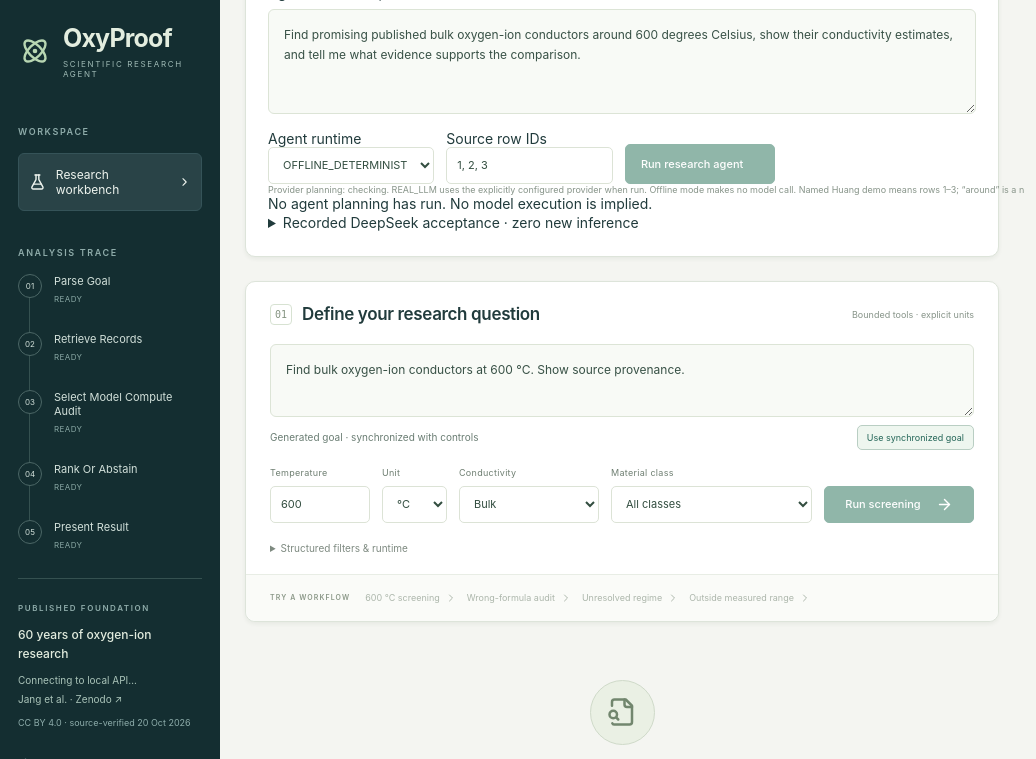
Test case: workbench API contract › preserves a manual scientific requirement when controls change
The image size is (1036, 759).
(page scrolled)
Replace the text in the text box named "Research goal" with "Find bulk conductors at 600 C that survive 10% humidity" at (622, 380), box [270,344,974,417]
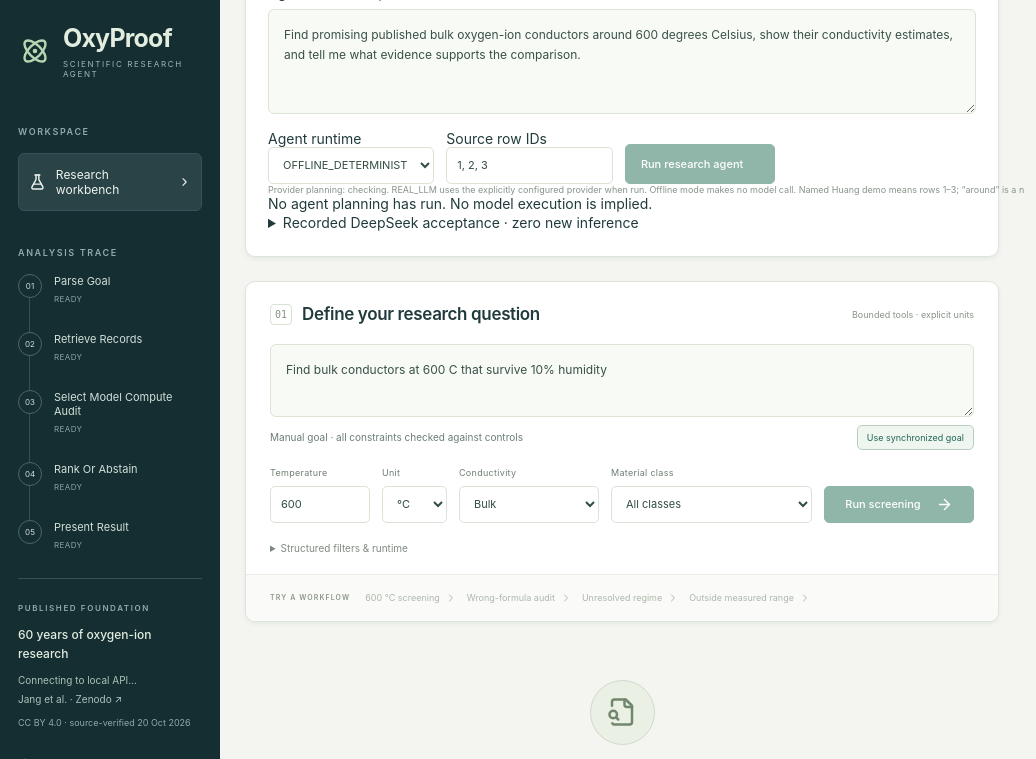
Replace the text in the number field labelled "Temperature" with "700" at (320, 504), box [270,486,370,523]
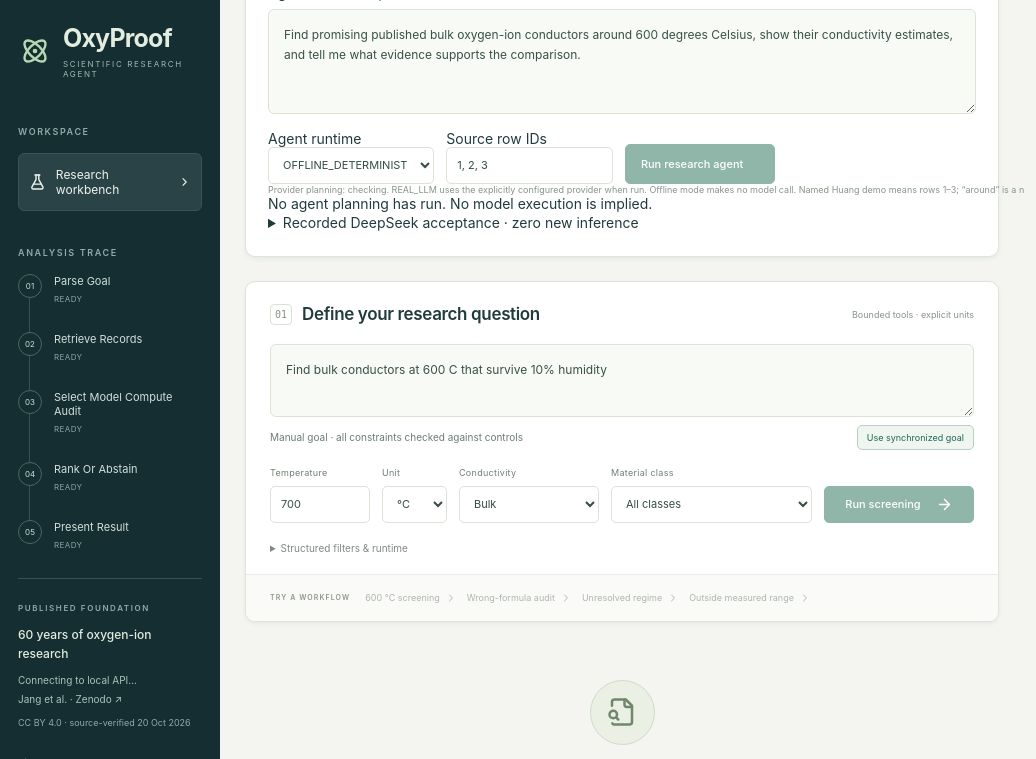
Expected: the element with test id "goal-origin" shows "Manual goal", [270,431,523,443]
Click the button "Use synchronized goal" at (915, 437), box [857,425,974,450]
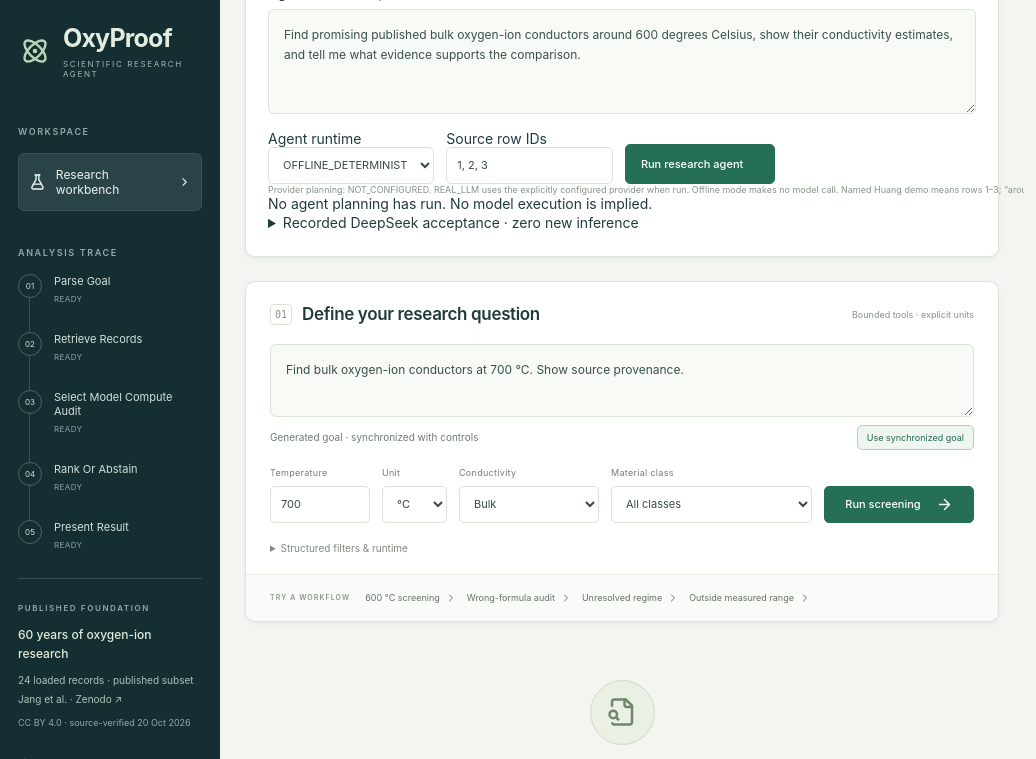
Expected: the text box named "Research goal" holds "Find bulk oxygen-ion conductors at 700 °C. Show source provenance.", [270,344,974,417]
